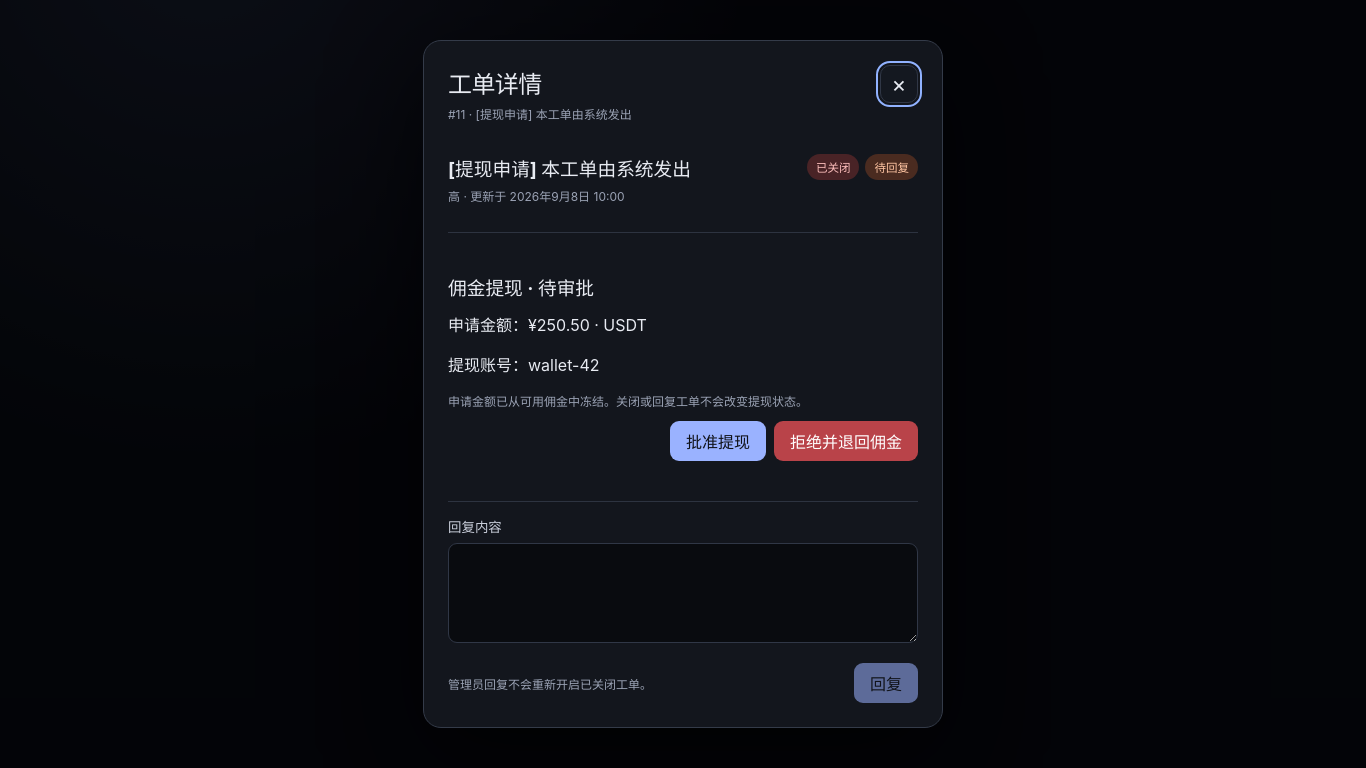
Commission withdrawal in ticket details › approves a closed ticket's withdrawal and confirms payment only with a receipt in an interactive nested dialog
Click the button "批准提现" at (718, 441), box x1=670 y1=421 x2=766 y2=461
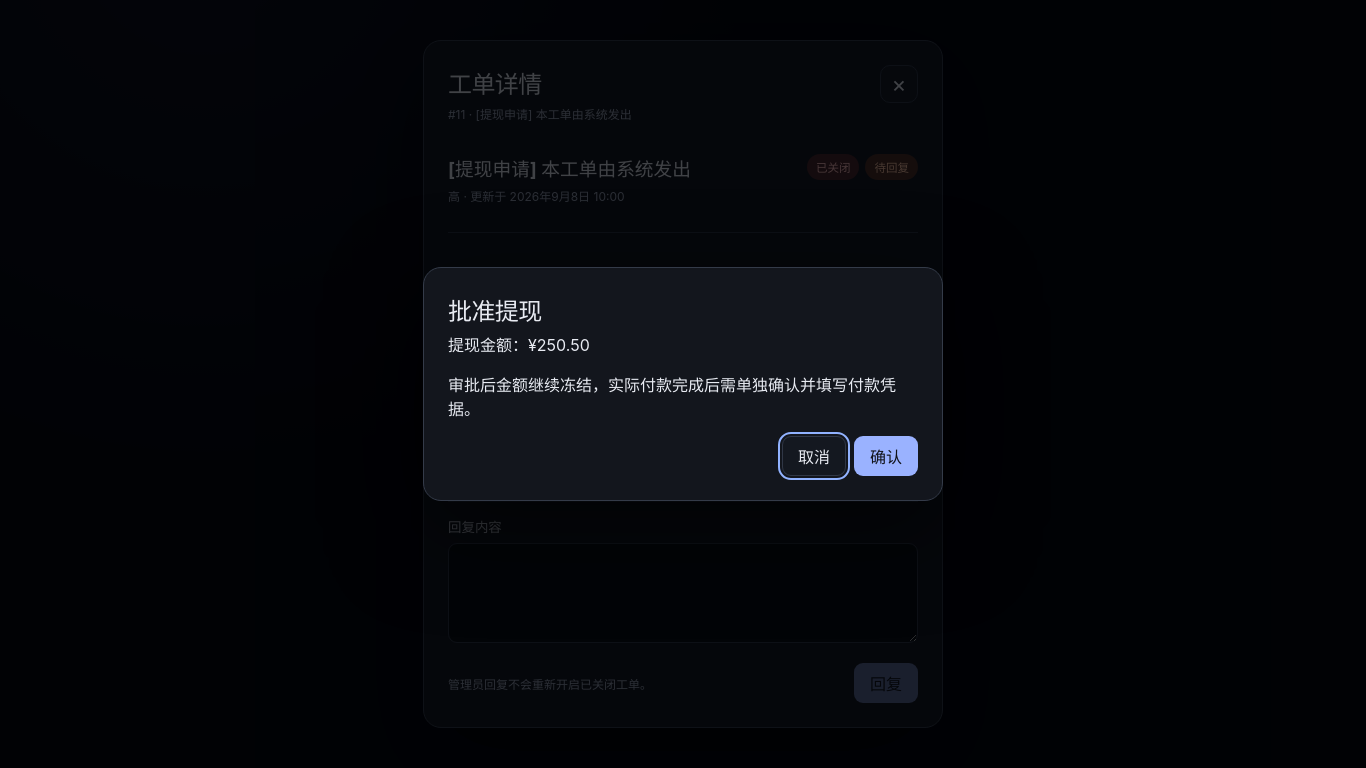
Click the button "确认" at (886, 456), box x1=854 y1=436 x2=918 y2=476
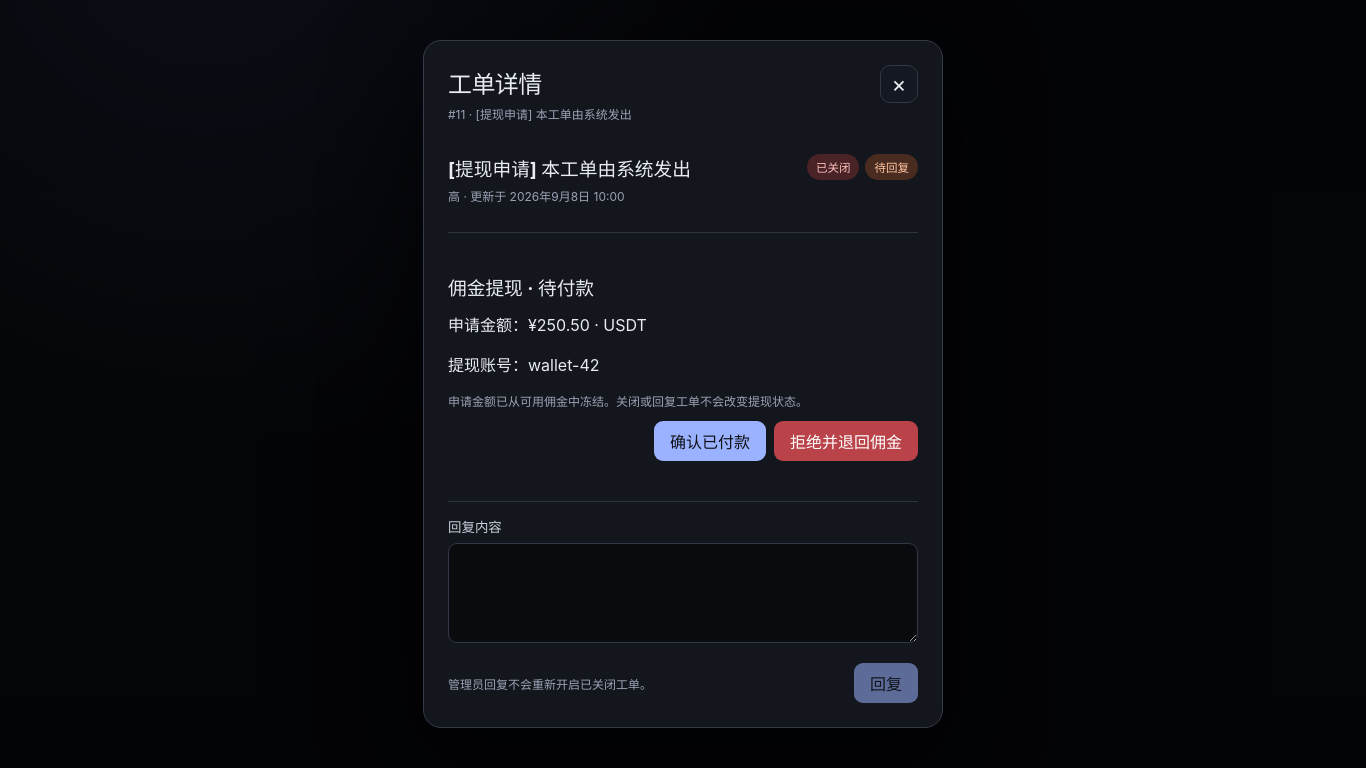
Click the button "确认已付款" at (710, 441), box x1=654 y1=421 x2=766 y2=461
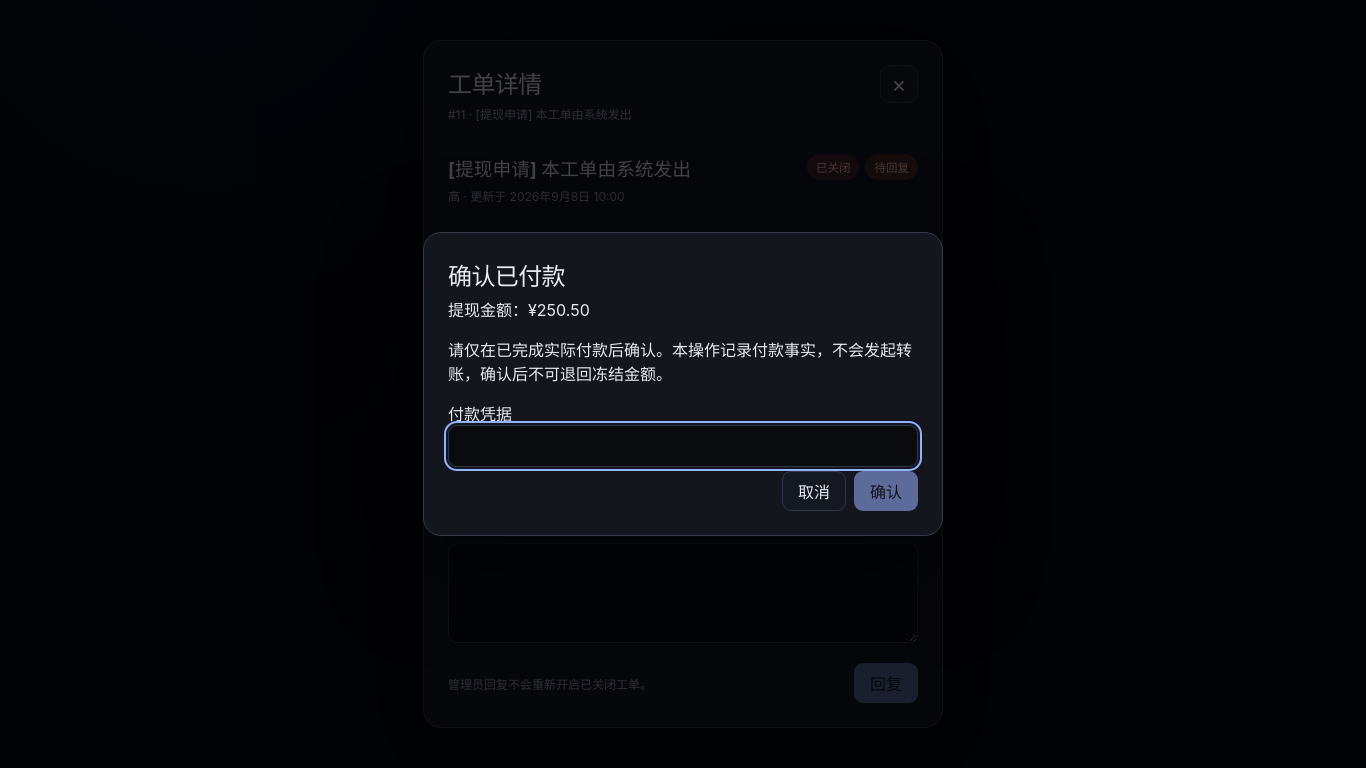
Now the button "确认" is disabled, box x1=854 y1=471 x2=918 y2=511
Type "receipt-42" into the field labelled "付款凭据" at (683, 446), box x1=448 y1=425 x2=918 y2=467
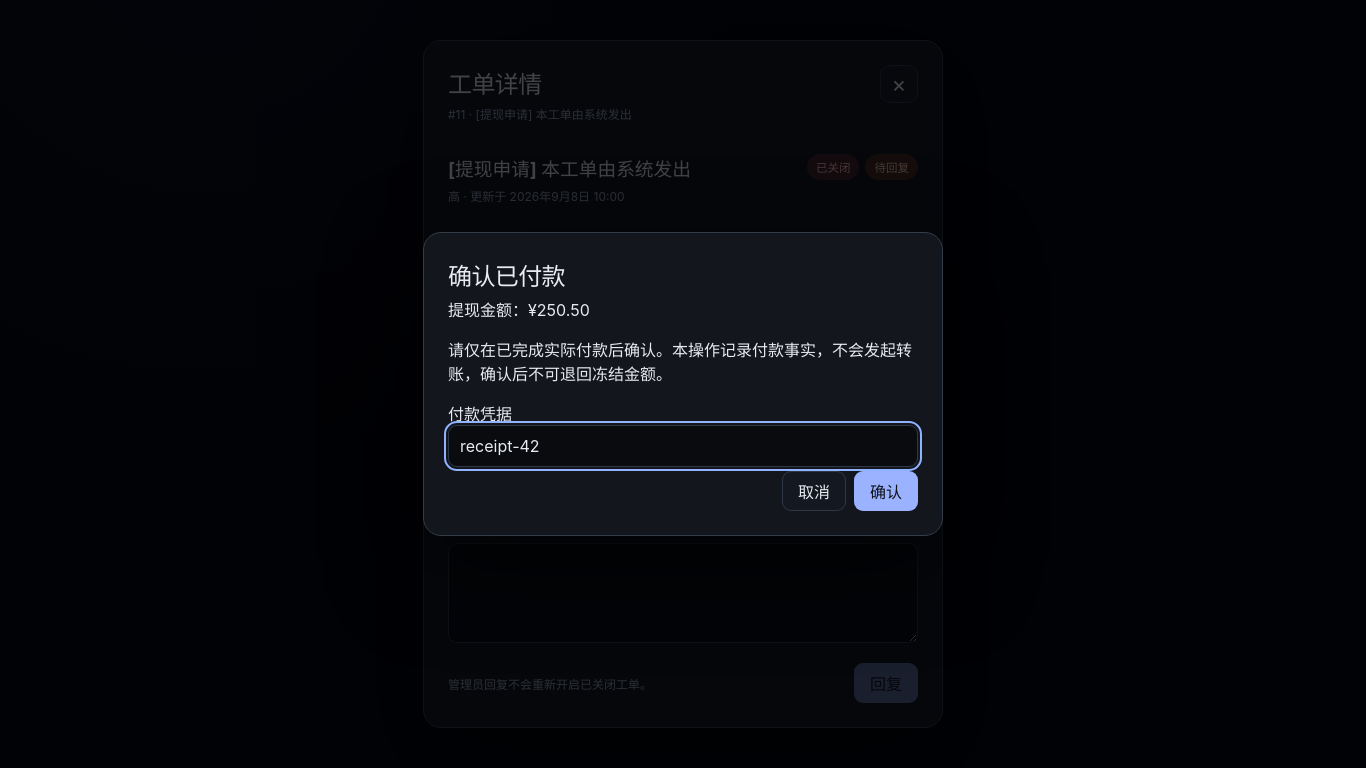
Click the button "确认" at (886, 491), box x1=854 y1=471 x2=918 y2=511
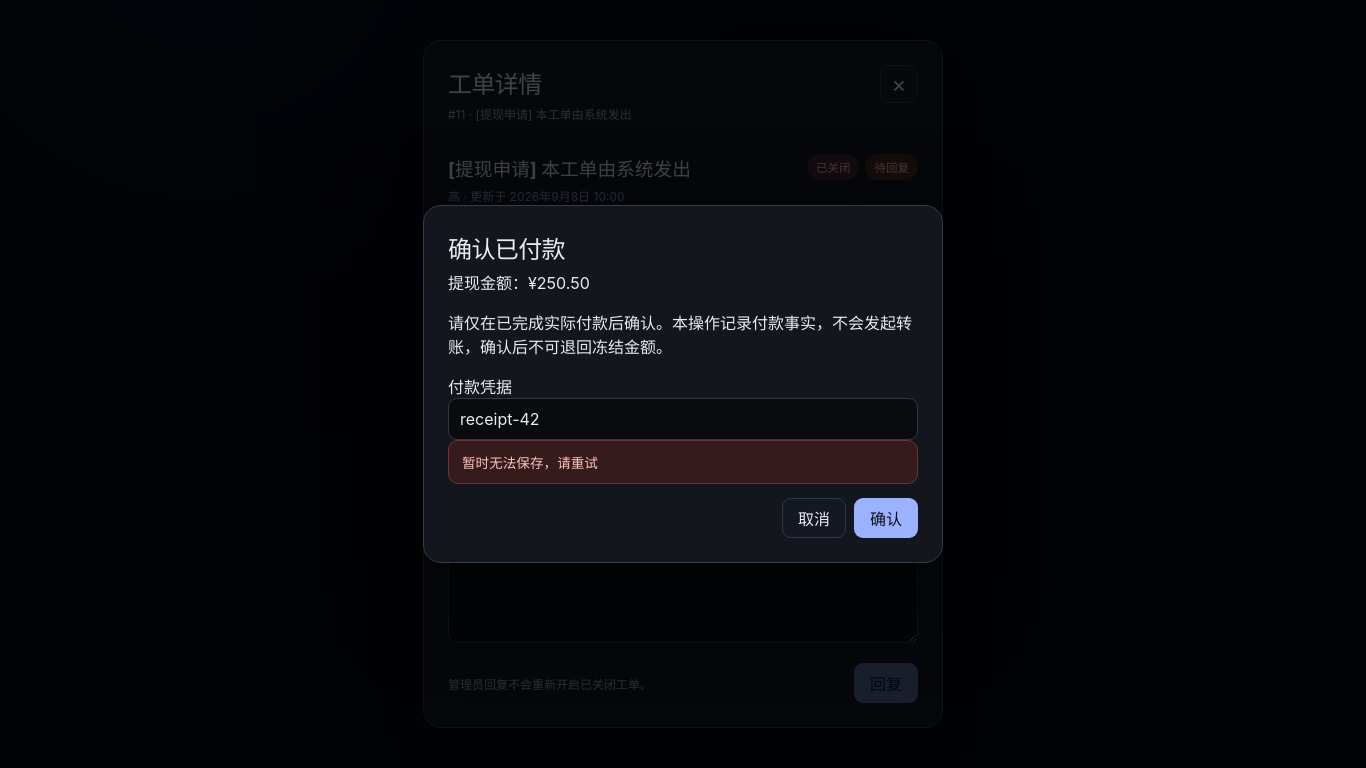
Now the message shows "暂时无法保存", box x1=462 y1=455 x2=598 y2=471
Click the button "确认" at (886, 518), box x1=854 y1=498 x2=918 y2=538
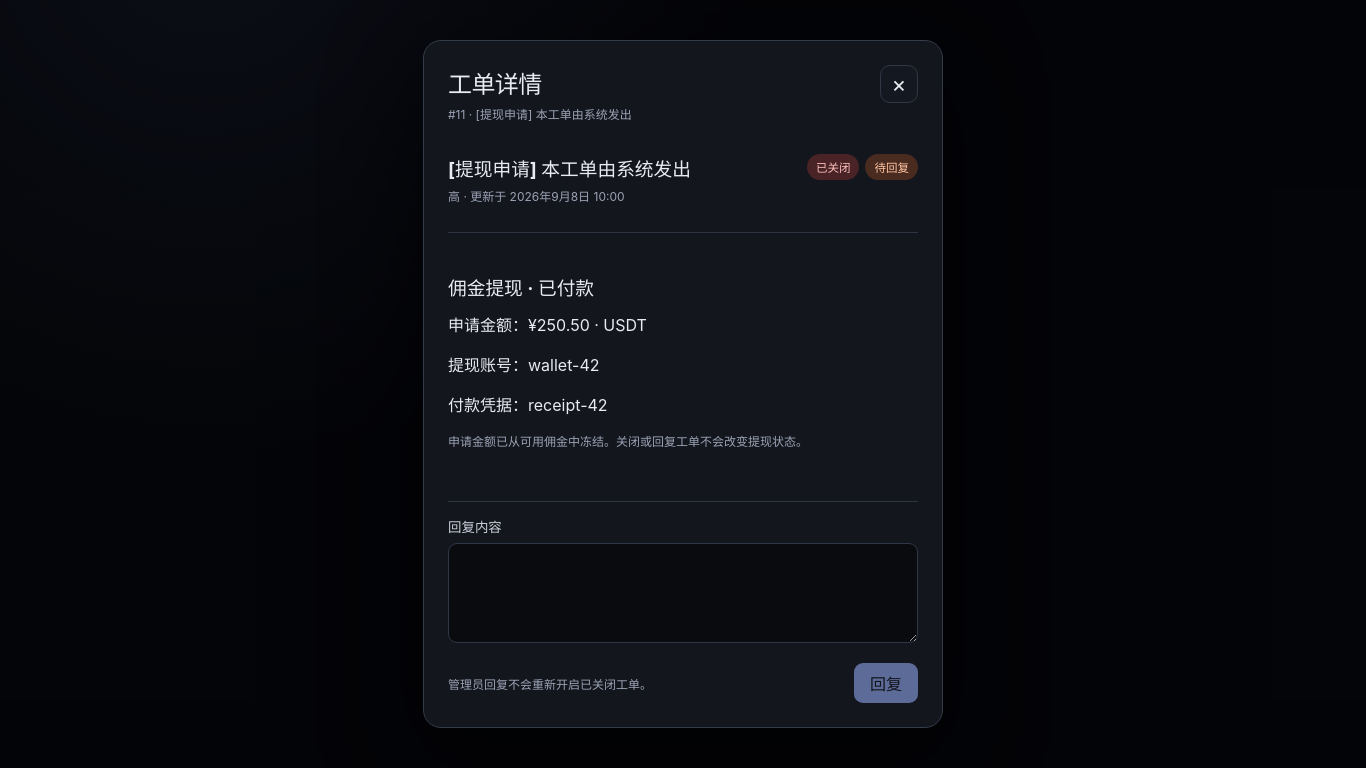
Now the button "确认已付款" is gone
Now the heading "佣金提现 · 已付款" is shown, box x1=448 y1=277 x2=594 y2=300
Now the button "拒绝并退回佣金" is gone
